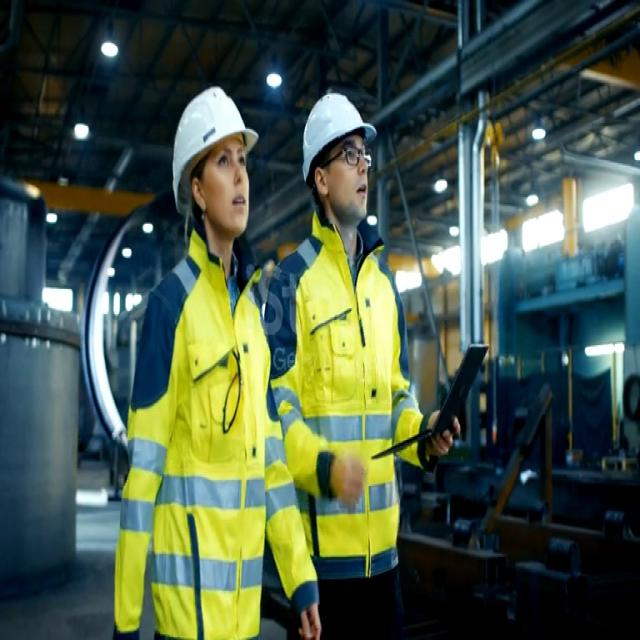capacete: (153, 80, 267, 208), (285, 82, 383, 205)
